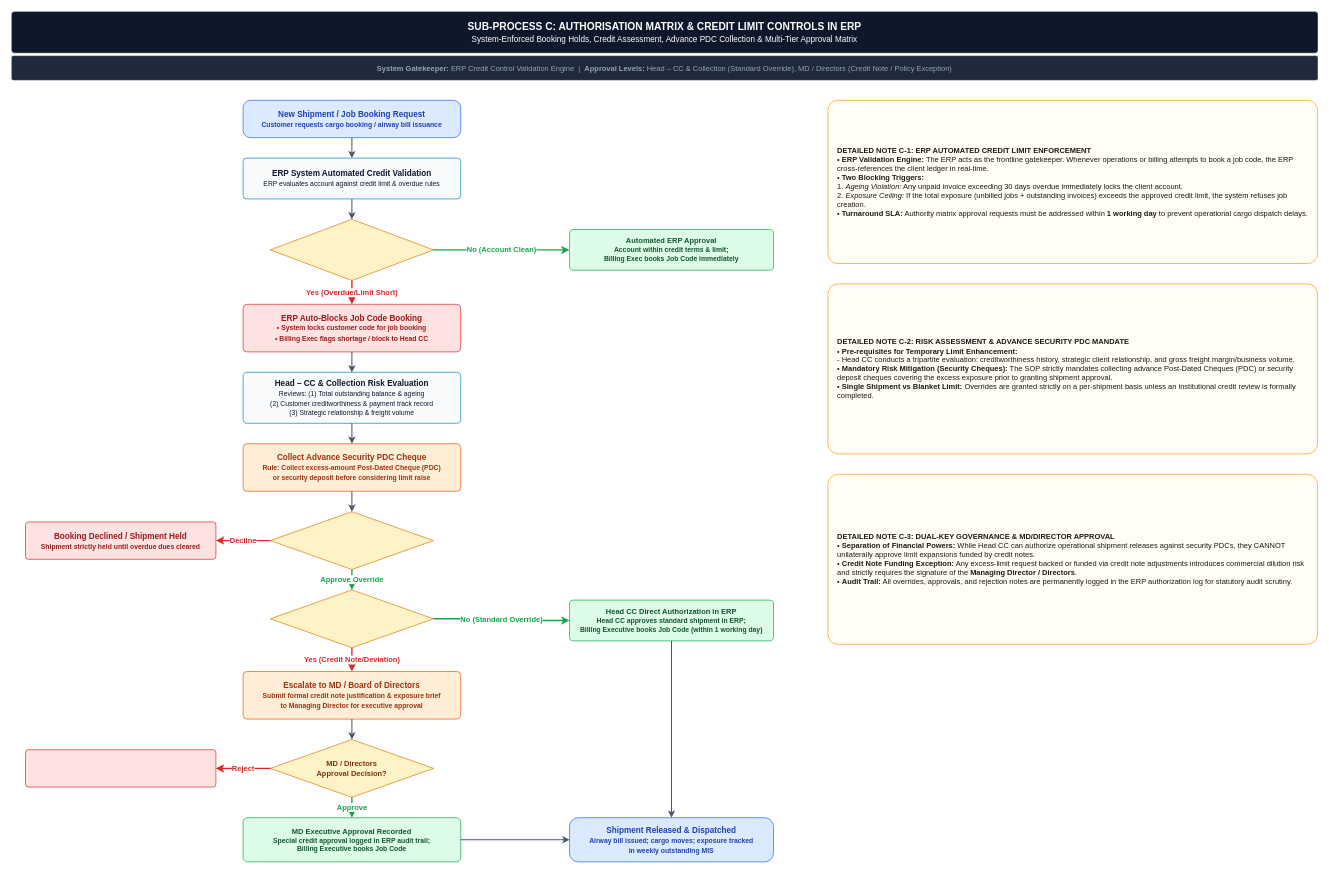
This 1329x874 diagram has some shape labels left out. The shapes that lost their labels are listed below. From the top down, each one's centre as x and y in pixels, then its label:
(x=352, y=249): Is Overdue > 30 Days OR Credit Limit Exceeded / Short?
(x=352, y=540): Head CC Approval Decision?
(x=352, y=618): Is Limit Funded via Credit Note or Major Process Deviation?
(x=120, y=768): Exception Rejected by MD No booking allowed; client required to settle dues
